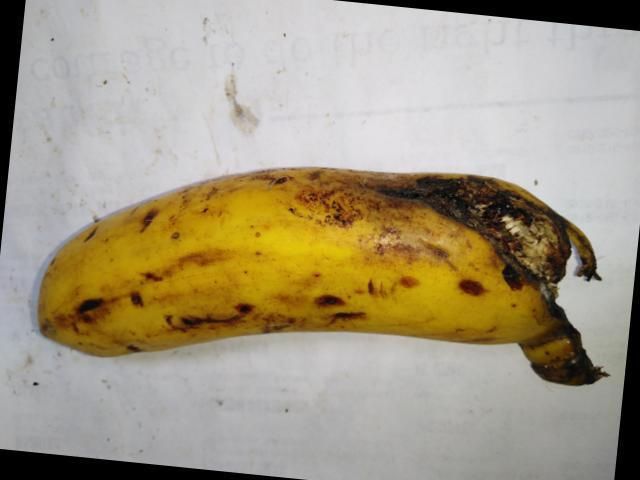ripe: (20, 149, 460, 366)
rotten: (354, 125, 607, 327)
